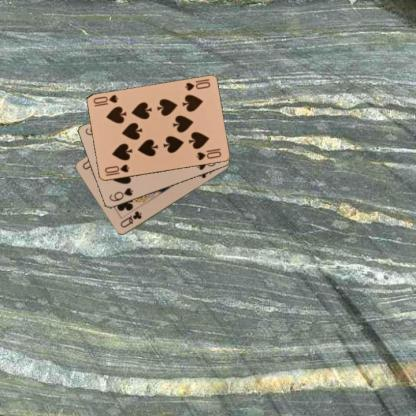10s: (102, 162, 131, 177), (182, 79, 211, 92)
6s: (106, 185, 134, 203)
Qc: (117, 209, 143, 230)
